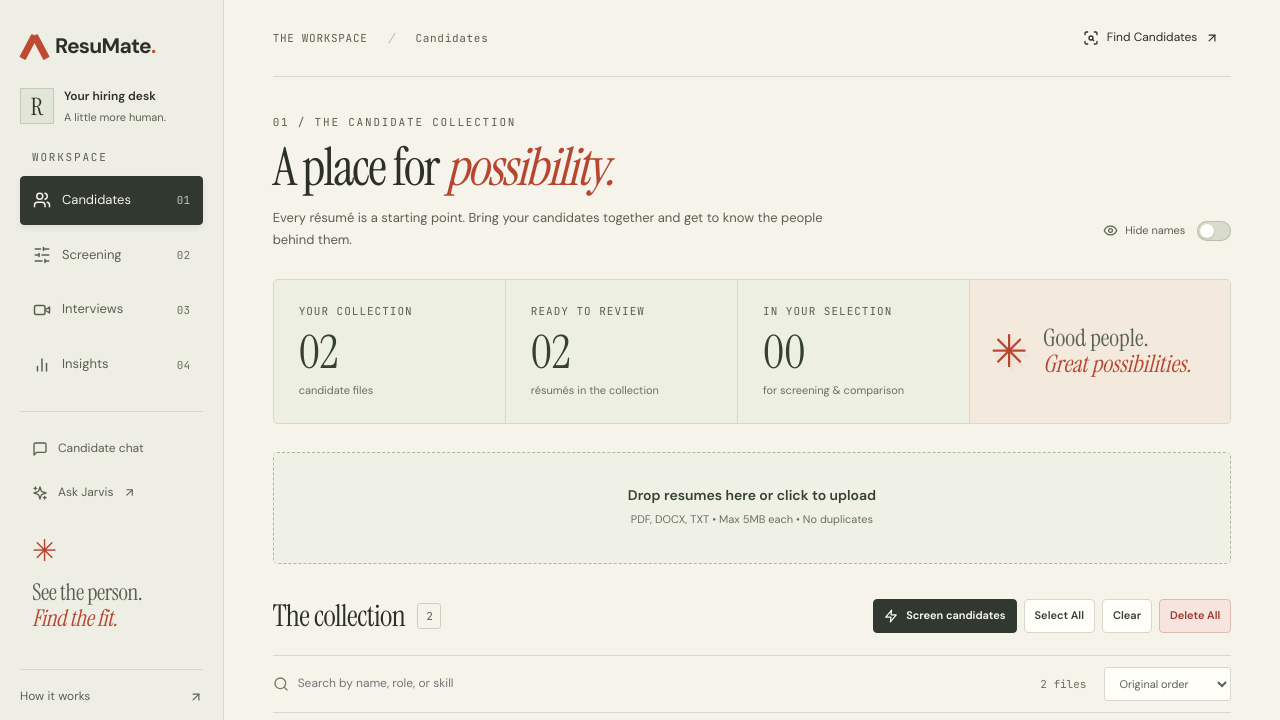
Test: the search and order › finds candidates by name, role or skill, and counts them
Type "figma" into the search field named "Search candidates" at (488, 684), box [298,668,678,701]
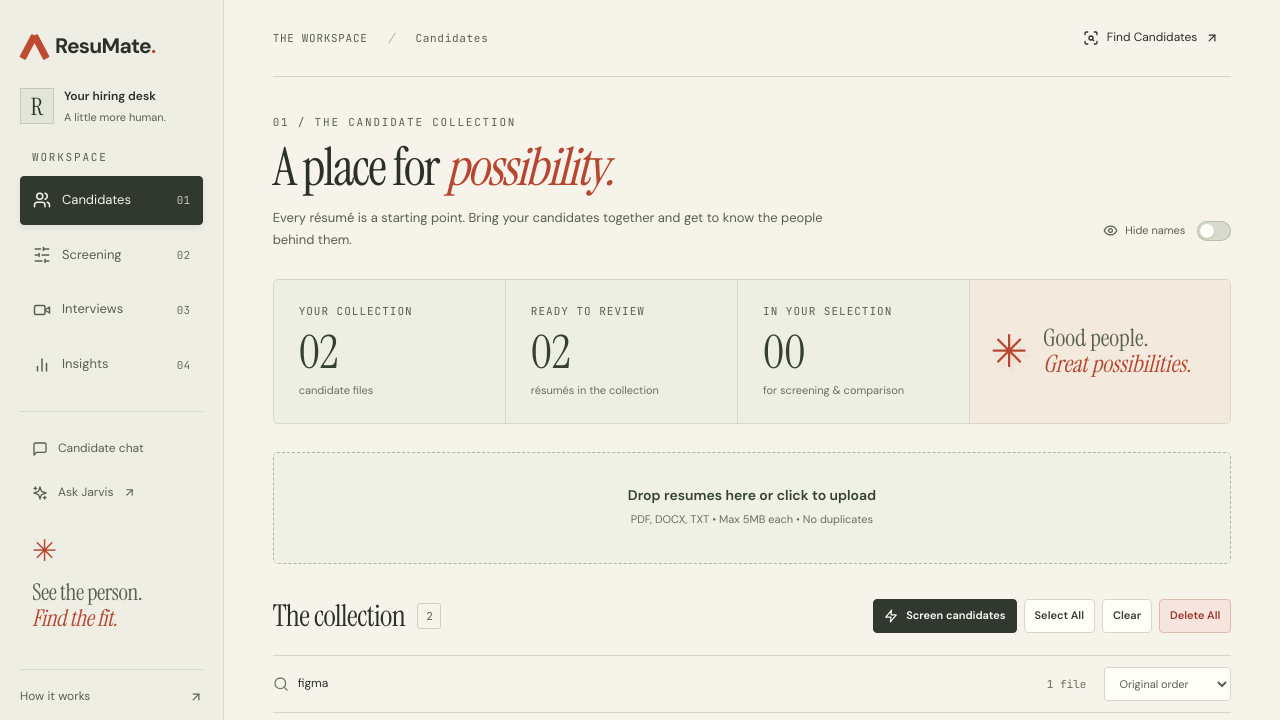
Now the text "1 file" is shown, box [1047,677,1086,691]
Replace the text in the search field named "Search candidates" with "engineer" at (488, 684), box [298,668,678,701]
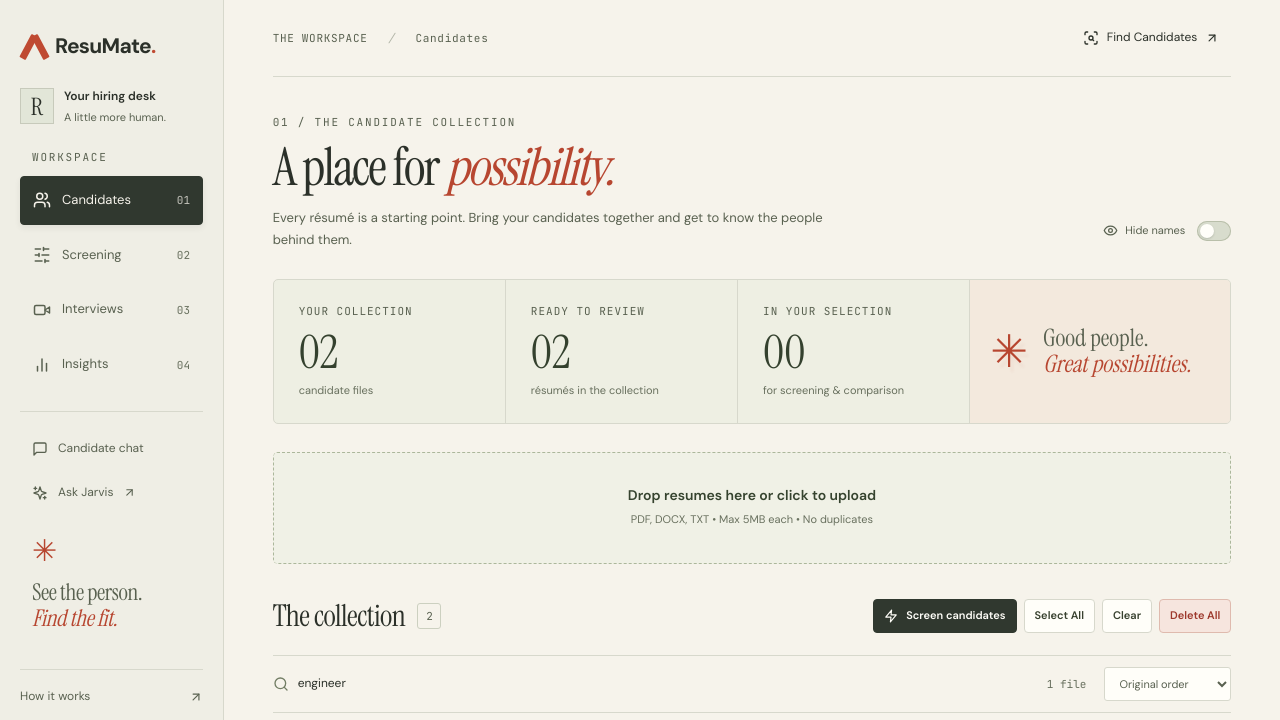
Clear the search field named "Search candidates" at (488, 684), box [298,668,678,701]
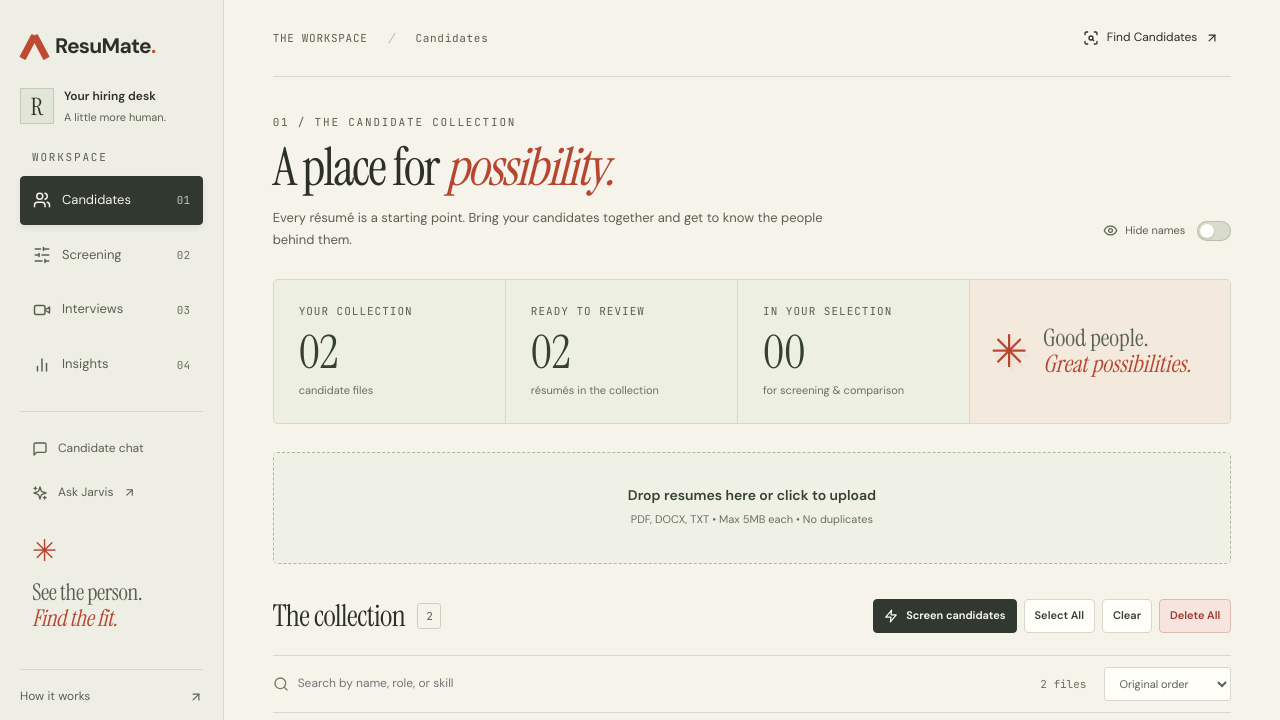
Now the text "2 files" is shown, box [1040,677,1086,691]
